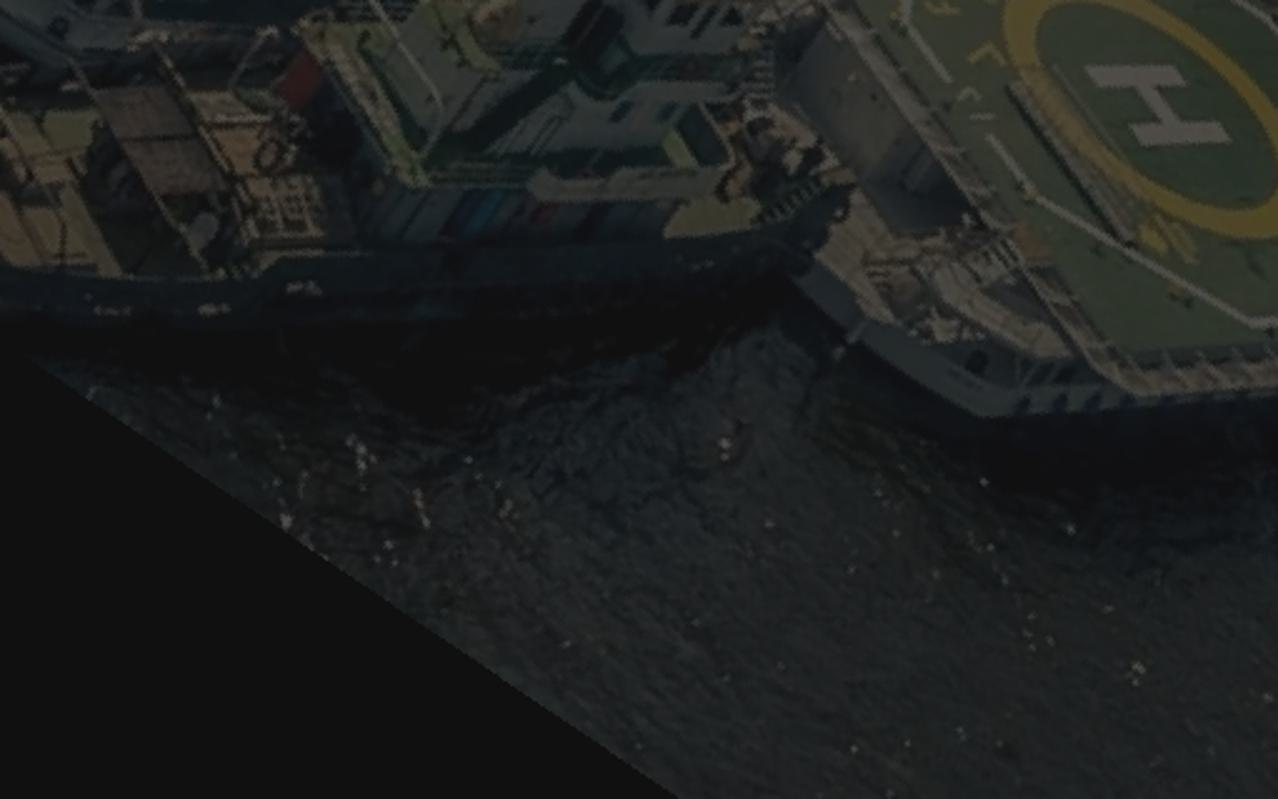Apron: (979, 2, 1278, 252)
